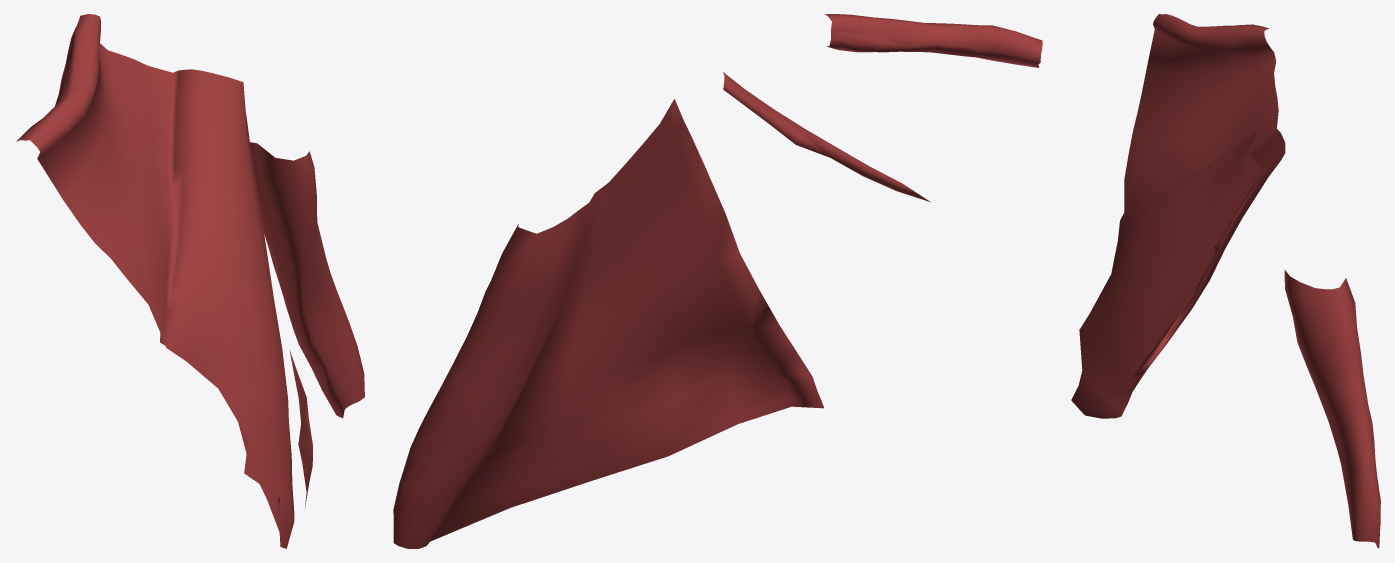
Rendered from clavipectoral-fascia-l.glb.
3 renders of one model, left to right at view 1: azimuth 30°, elevation 25°; view 2: azimuth 150°, elevation 25°; view 3: azimuth 270°, elevation 25°, orthographic. The views are drawn at different scales.
Visible parts, largest first — view 1: Clavipectoral fascia.l; view 2: Clavipectoral fascia.l; view 3: Clavipectoral fascia.l.
Part boxes in pixels (bbox=[...]): Clavipectoral fascia.l: bbox=[16, 14, 364, 548]; Clavipectoral fascia.l: bbox=[393, 14, 1042, 548]; Clavipectoral fascia.l: bbox=[1071, 14, 1380, 548].
Bounding box in the file's own units: 0.1514 × 0.1598 × 0.1123.
